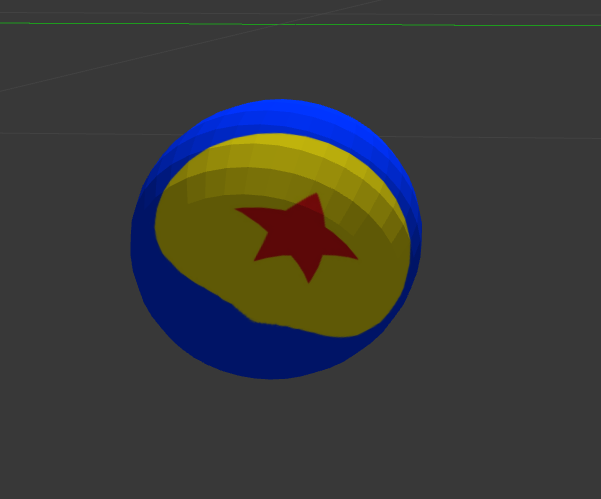toy_story_ball: (129, 97, 424, 380)
